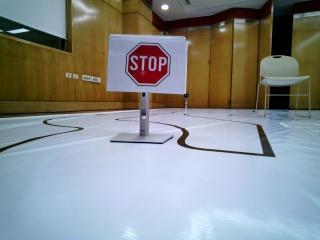stop: (110, 34, 186, 94)
